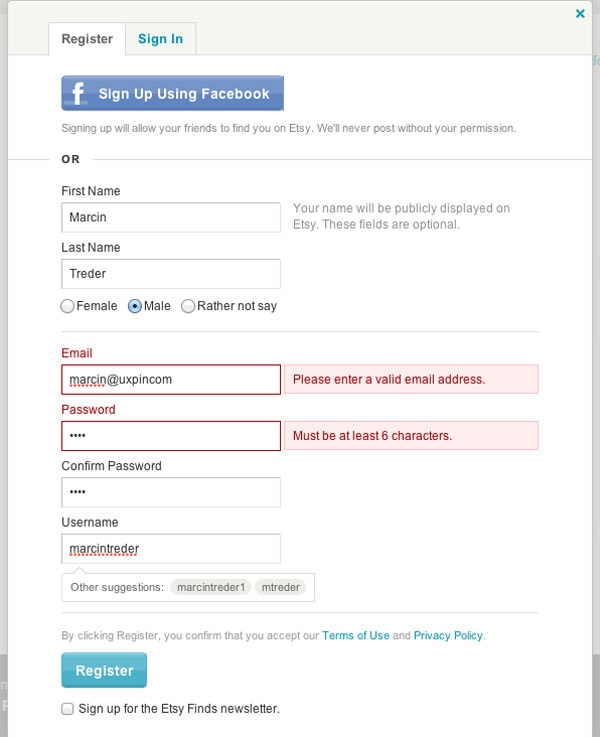error_field: (61, 419, 282, 452), (61, 363, 281, 396)
error_message: (290, 372, 487, 389), (292, 428, 452, 444), (62, 403, 117, 415), (61, 346, 93, 360)
